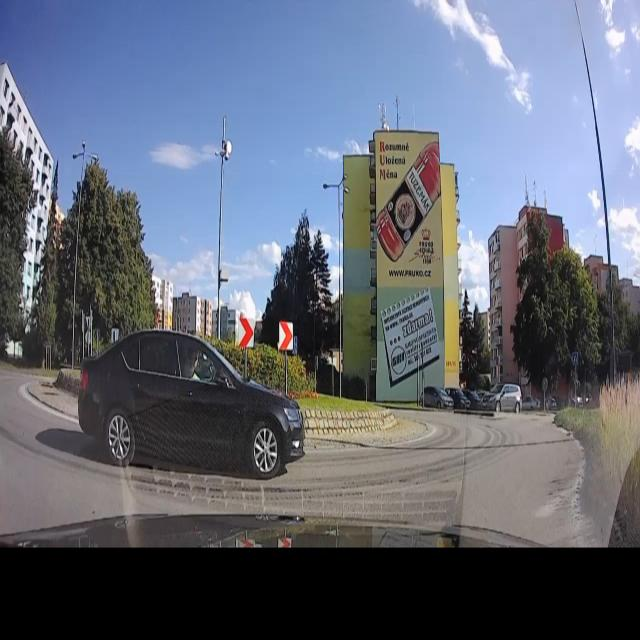Pedestrian crosswalk: (572, 348, 579, 366)
